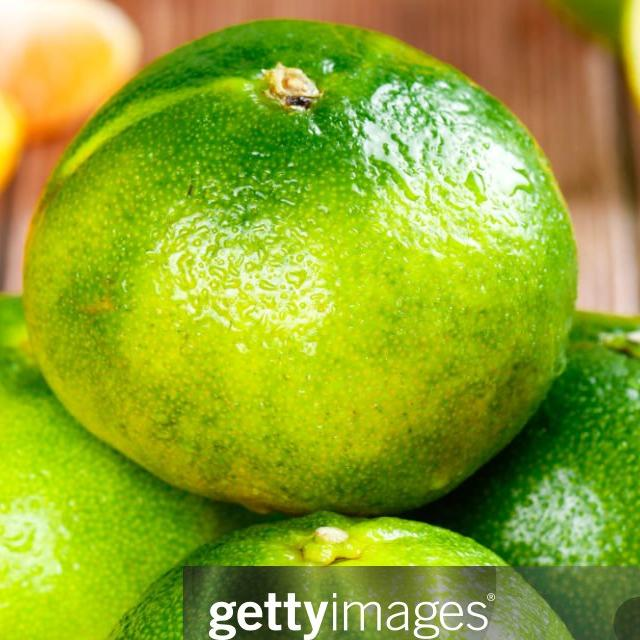lime: (20, 19, 582, 521)
